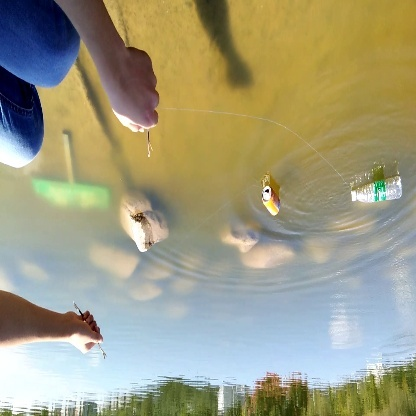bottle: (348, 175, 404, 207), (260, 182, 281, 217)
